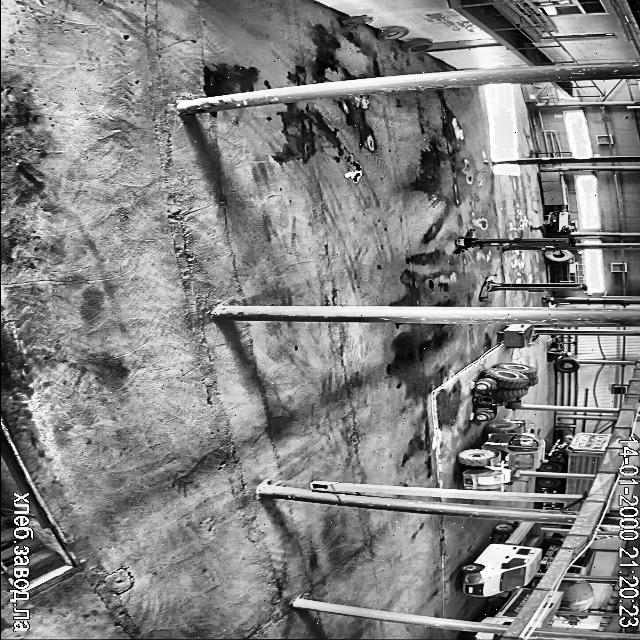class6: (459, 419, 546, 489), (474, 362, 538, 420)
class7: (460, 522, 540, 596), (540, 432, 612, 473), (483, 588, 532, 624), (558, 580, 594, 620), (538, 477, 592, 494), (538, 592, 560, 628), (567, 548, 594, 574), (541, 538, 562, 571), (469, 632, 500, 640), (543, 500, 562, 508), (570, 504, 580, 510)
tractor: (340, 16, 372, 25)
truck: (479, 275, 588, 300), (455, 230, 575, 252)
